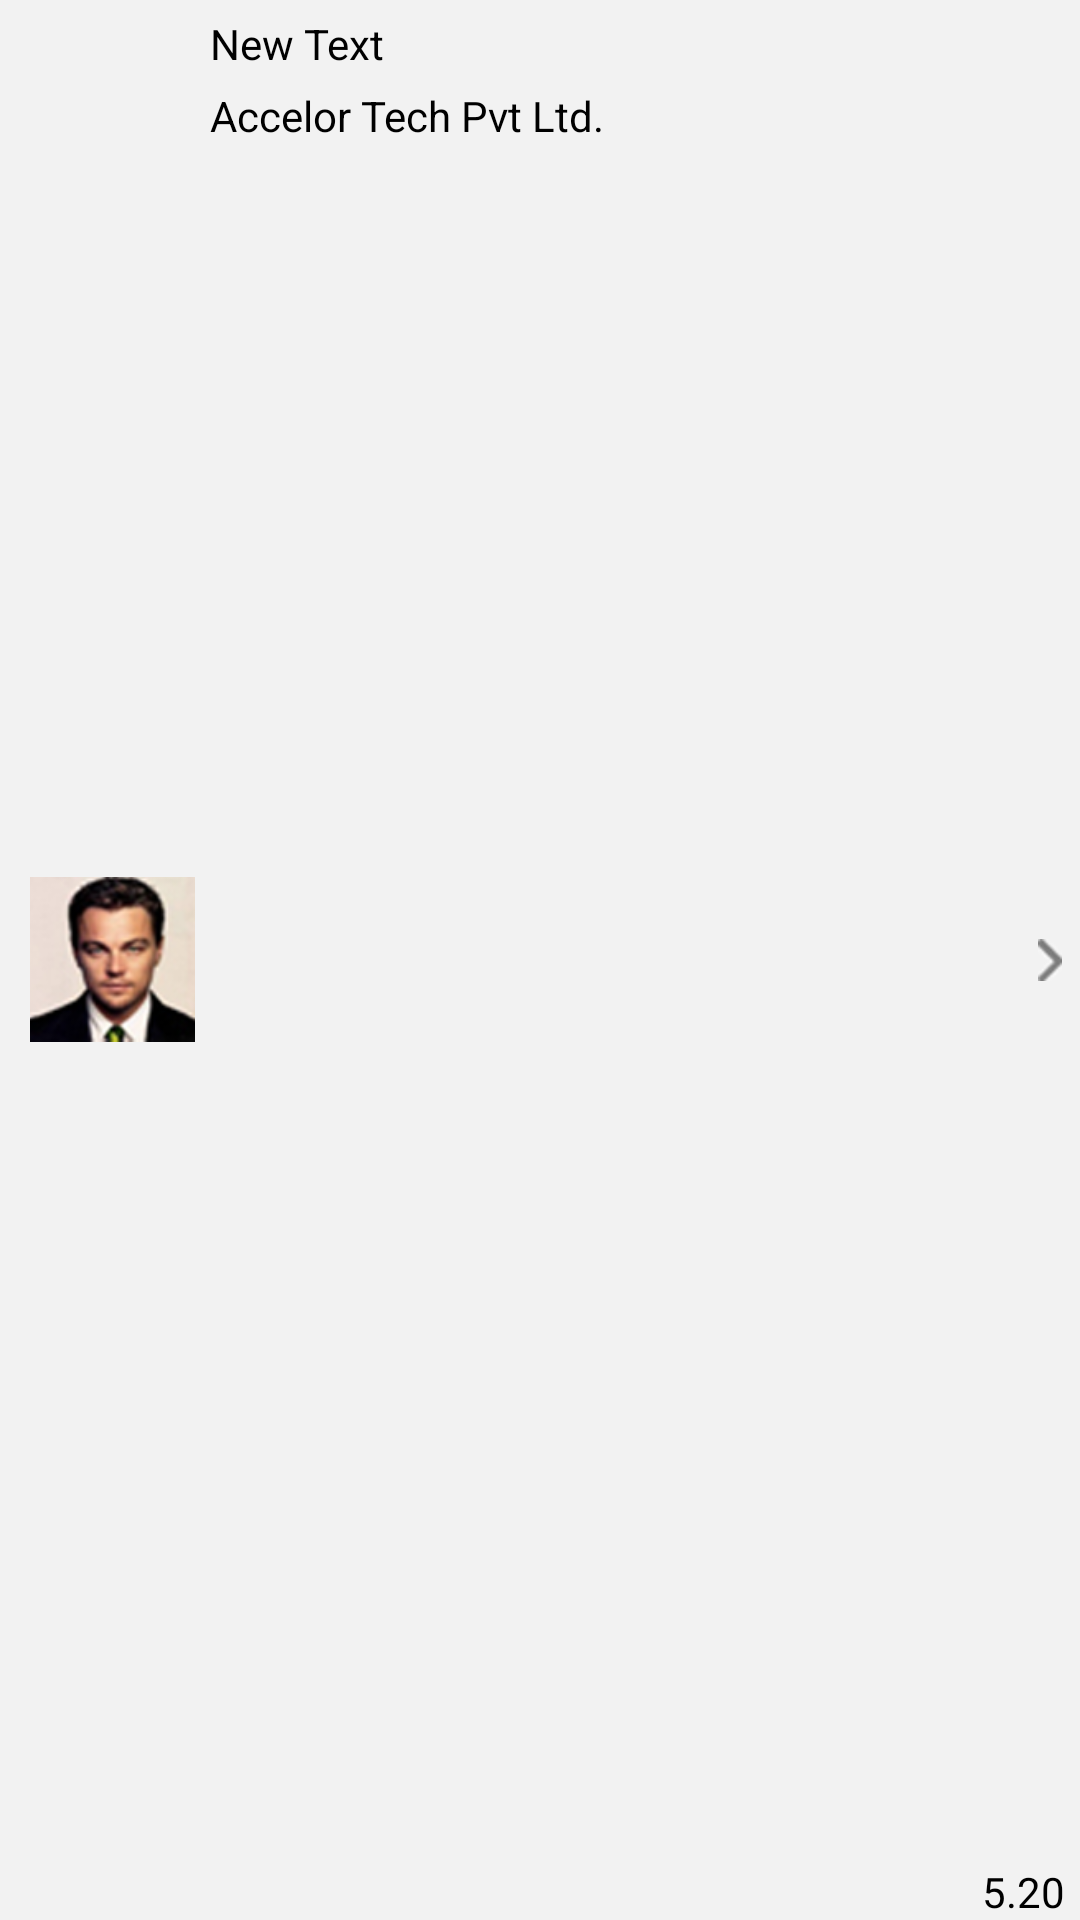

Icons on this 1080w x 1920h Android screen, each with the point to tap as (x,y):
right arrow: (1050,960)
user profile pic: (112,959)
